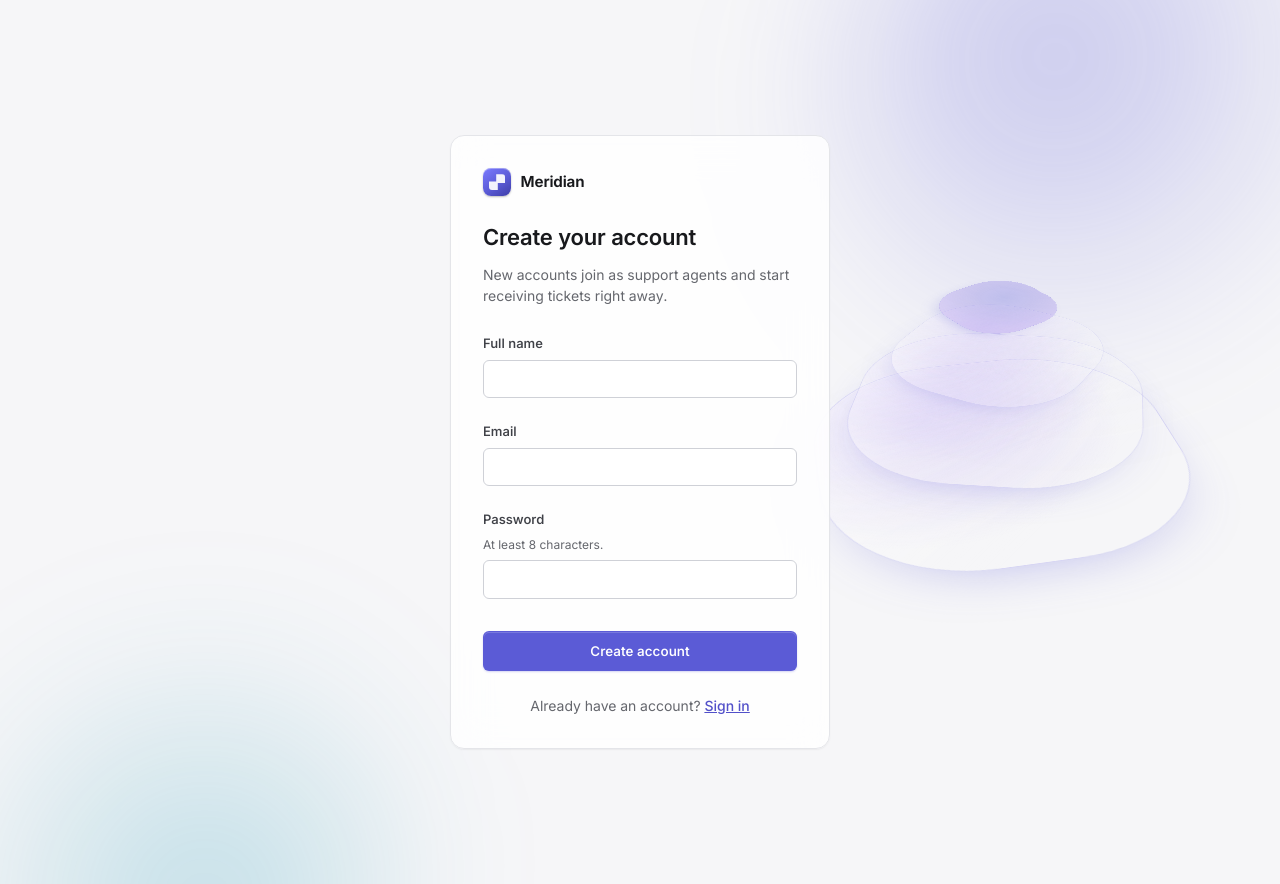
Test case: SignupPage › creates an account and is signed in immediately
Type "Class Demo Agent" into the field labelled "Full name" at (640, 379), box [483, 360, 797, 398]
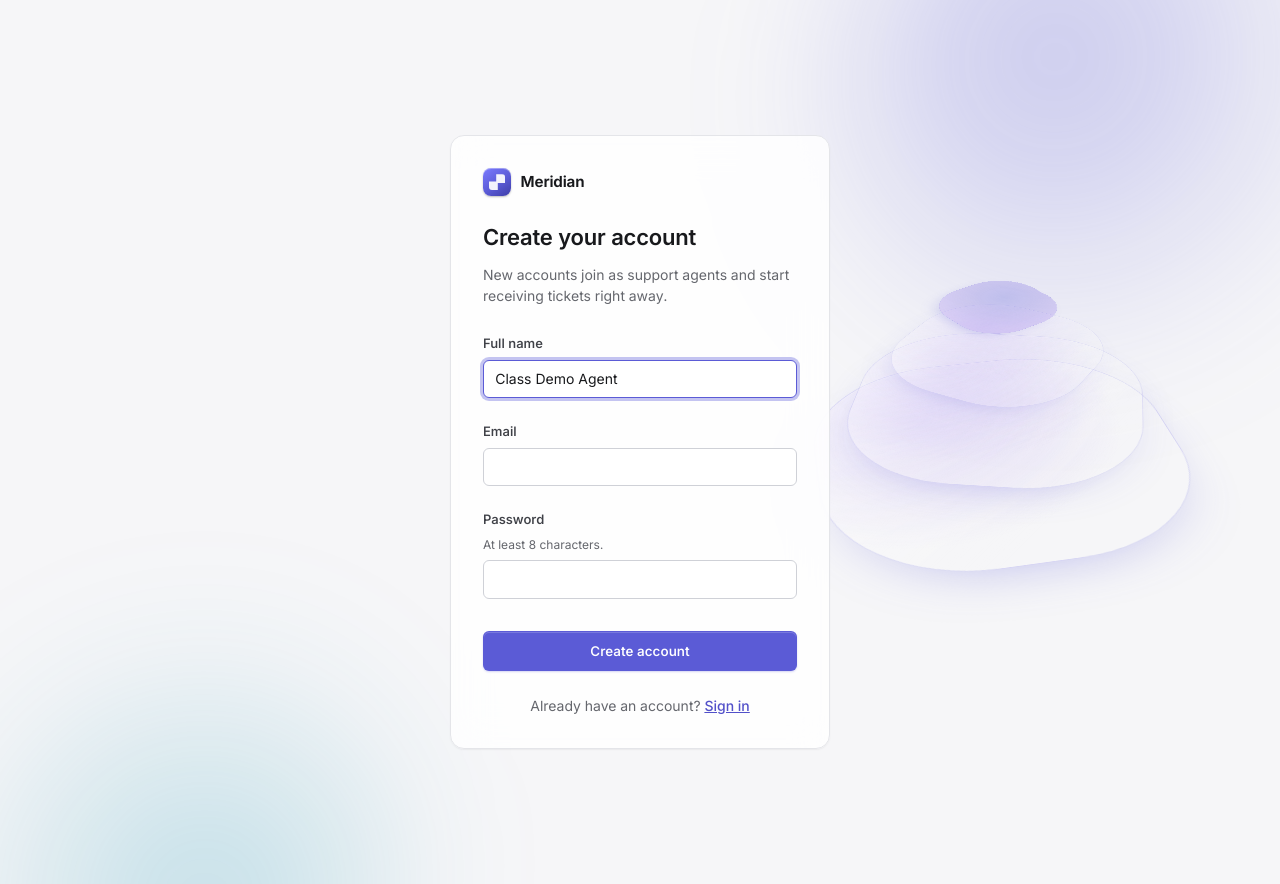
Type "demo.agent@meridian.local" into the field labelled "Email" at (640, 467), box [483, 448, 797, 486]
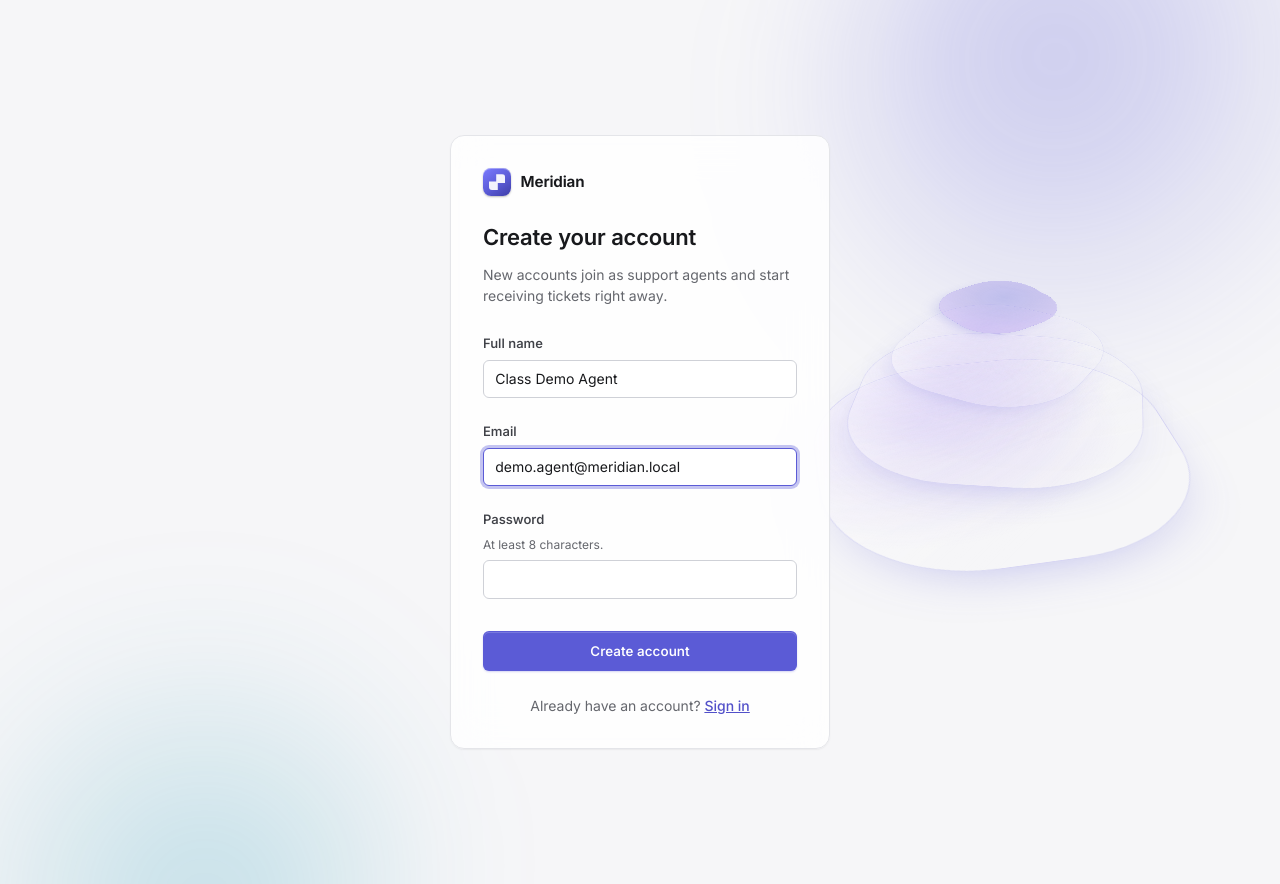
Type "DemoPass!2026" into the password field labelled "Password At least 8 characters." at (640, 580), box [483, 560, 797, 599]
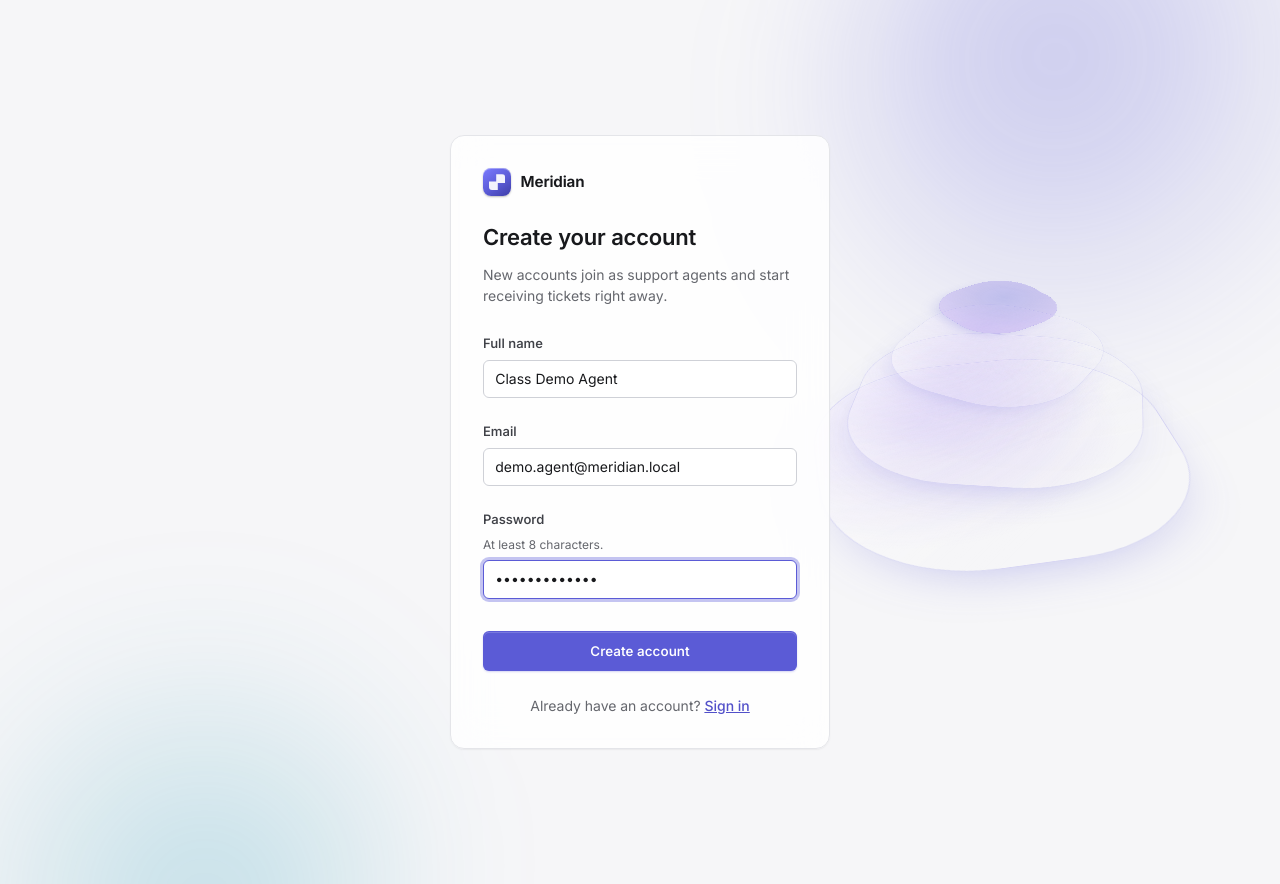
Click the button "Create account" at (640, 651), box [483, 631, 797, 671]
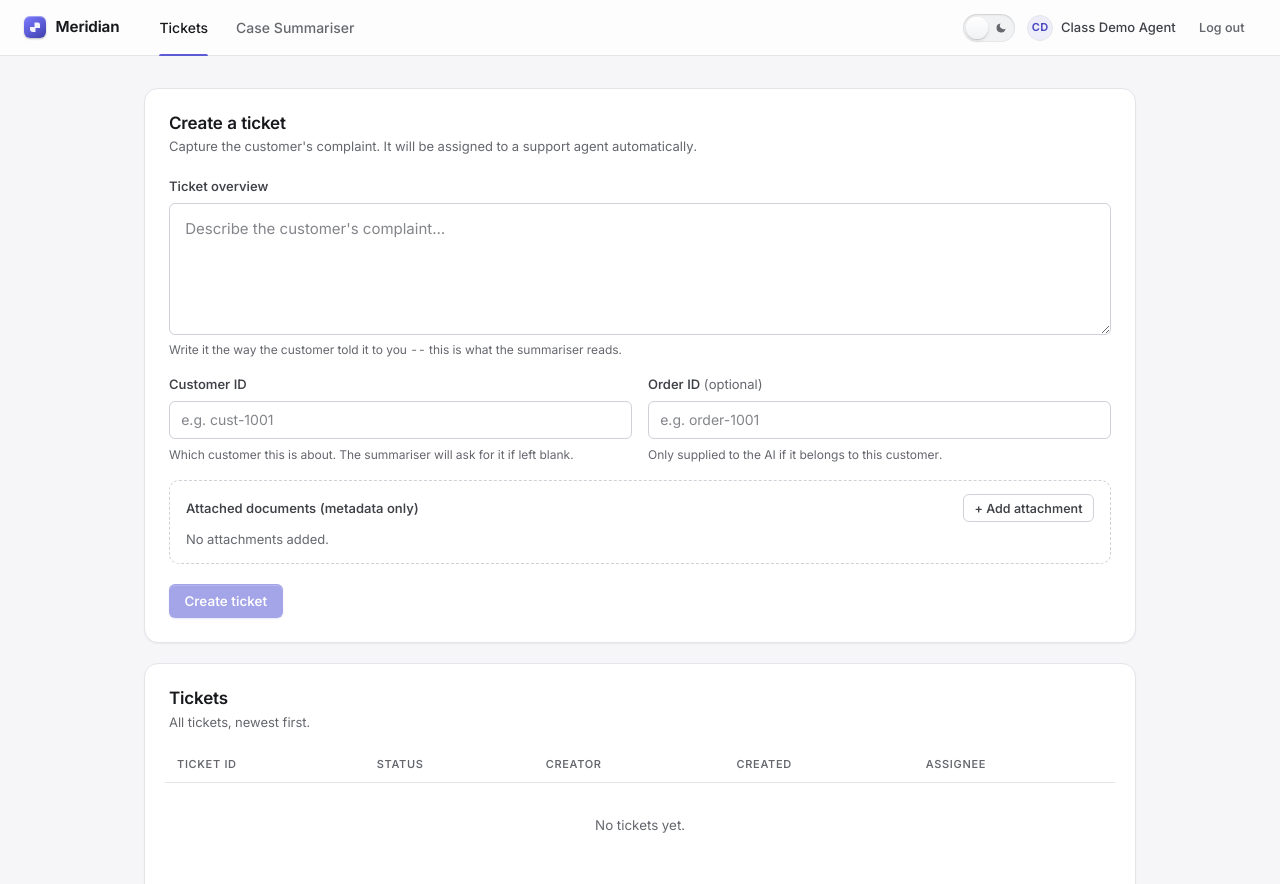
Expected: the heading "Create a ticket" is shown, [169, 113, 286, 133]
Expected: the text "Class Demo Agent" is shown, [1061, 19, 1176, 35]
